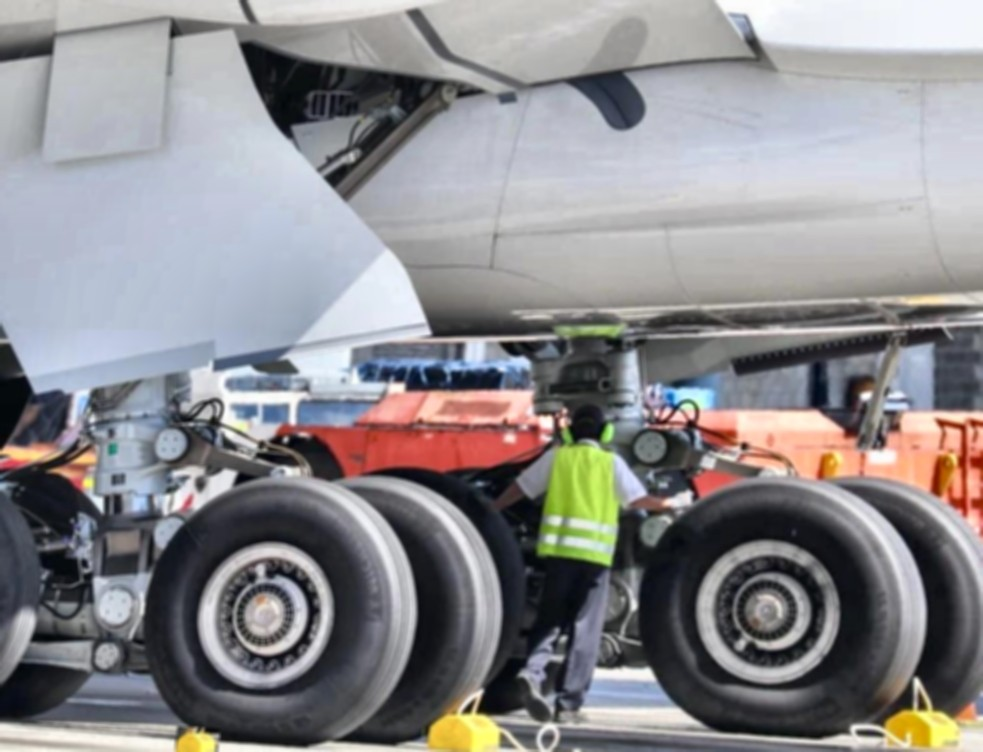chock: (423, 702, 506, 752), (879, 705, 963, 752), (174, 726, 220, 752)
wheel: (130, 469, 442, 749), (630, 470, 929, 742), (285, 471, 520, 748), (807, 473, 983, 732), (0, 465, 121, 724), (0, 466, 65, 719), (251, 433, 350, 486)
